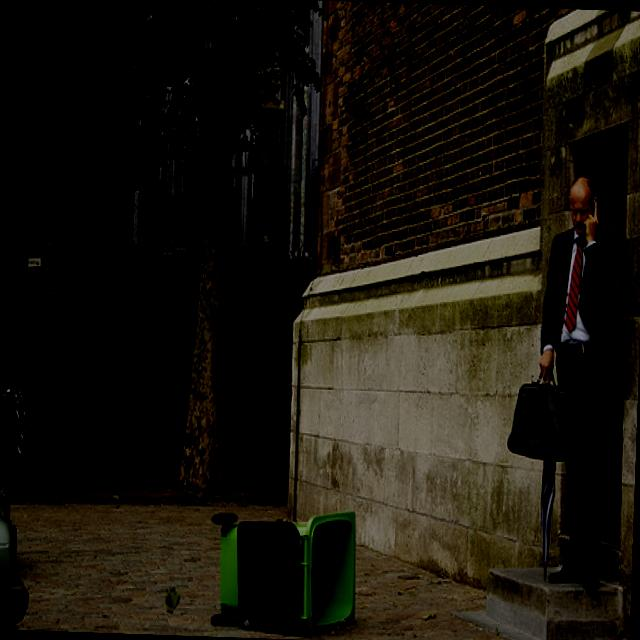Vehicle: (0, 483, 23, 622), (0, 379, 32, 456), (0, 449, 12, 514)
